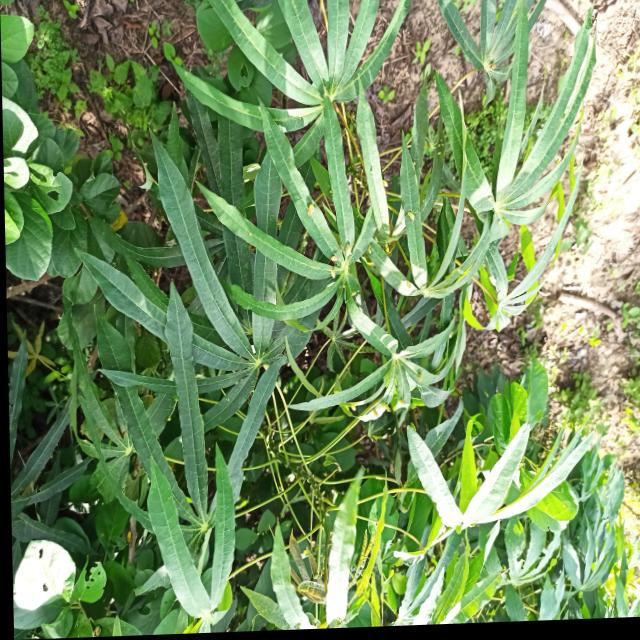Maleza: (0, 6, 82, 265)
Mosca: (371, 398, 395, 422), (358, 249, 379, 275), (302, 201, 321, 224), (326, 248, 336, 284), (341, 241, 354, 261), (404, 206, 420, 221), (346, 398, 359, 414), (411, 364, 421, 382), (375, 176, 388, 186)
